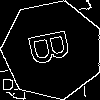B: (27, 25, 81, 68)
